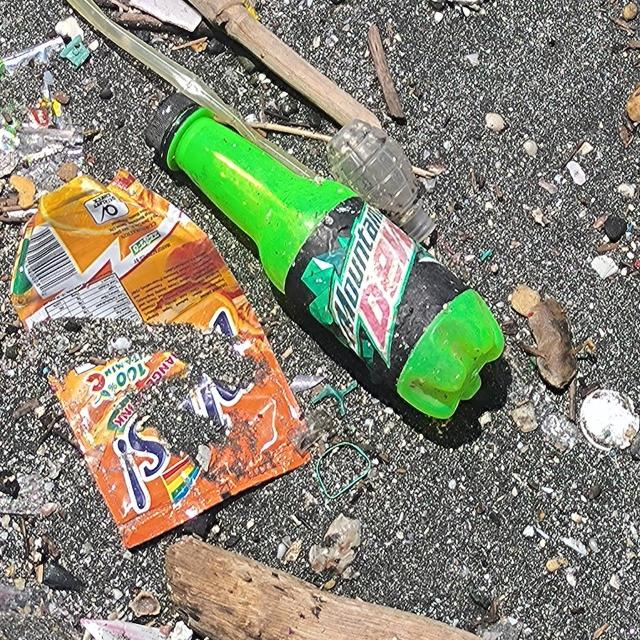plastic_waste: (1, 167, 315, 552), (145, 96, 510, 425)
